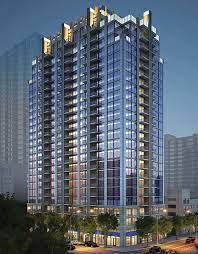Sky Building: (26, 6, 168, 233)
